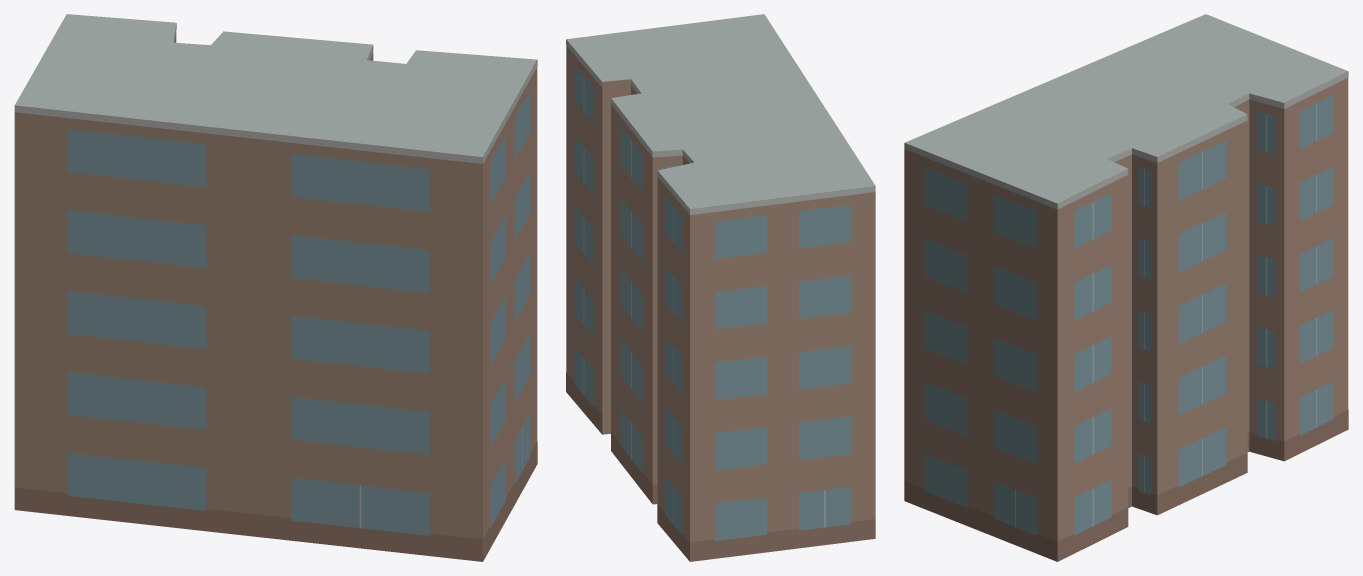
The model's file is survey-upis-32949425.glb.
3 views of the same model, side by side, from view 1: azimuth 30°, elevation 25°; view 2: azimuth 150°, elevation 25°; view 3: azimuth 270°, elevation 25° (orthographic). The views are drawn at different scales.
Visible parts, largest first — view 1: survey-upis-32949425.tmp; view 2: survey-upis-32949425.tmp; view 3: survey-upis-32949425.tmp.
Boxes of the visible parts, left/top/right/bottom form: survey-upis-32949425.tmp: left=14, top=14, right=537, bottom=561; survey-upis-32949425.tmp: left=566, top=14, right=875, bottom=561; survey-upis-32949425.tmp: left=904, top=14, right=1348, bottom=561.
Bounding box in the file's own units: 16.35 × 14.4 × 16.18.
